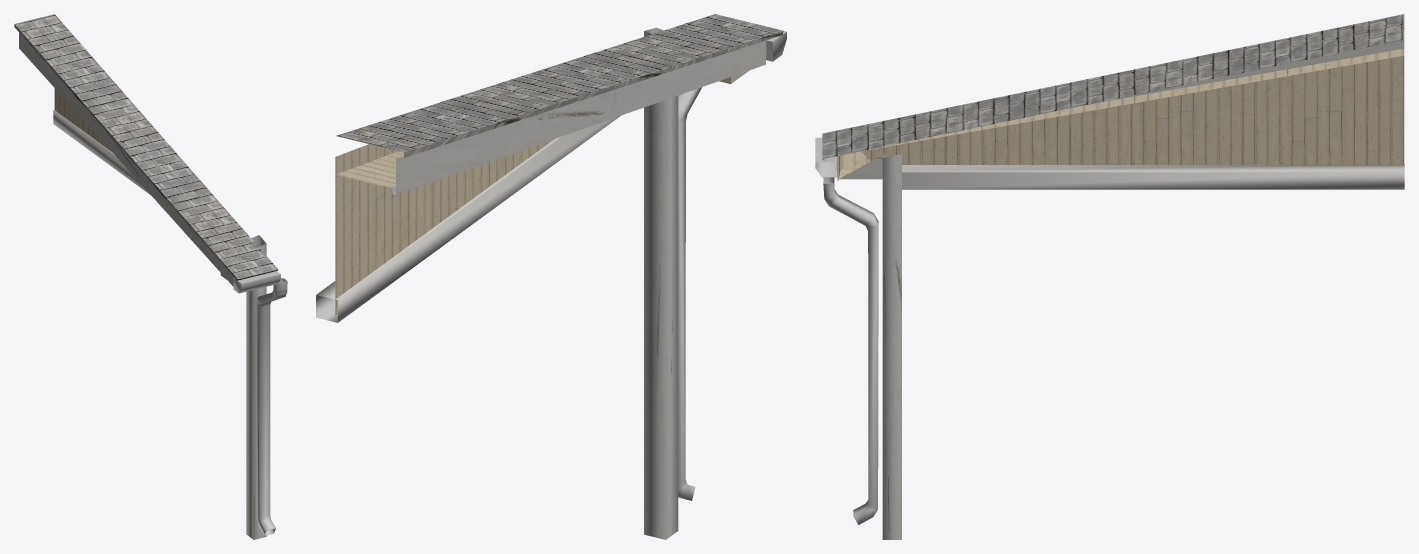
File: Porch_End_Left_4x_COL.FBX
The picture shows the model from 3 angles, left to right: view 1: azimuth 30°, elevation 25°; view 2: azimuth 150°, elevation 25°; view 3: azimuth 270°, elevation 25°; orthographic projection. The views are drawn at different scales.
Parts seen in each view (by area): view 1: Porch_End_Left_4x_COL; view 2: Porch_End_Left_4x_COL; view 3: Porch_End_Left_4x_COL.
Boxes of the visible parts, <box> form: Porch_End_Left_4x_COL: <box>14,14,287,539</box>; Porch_End_Left_4x_COL: <box>316,14,786,539</box>; Porch_End_Left_4x_COL: <box>815,14,1404,539</box>.
Size of the model in its own units: 52.41 by 366 by 397.
